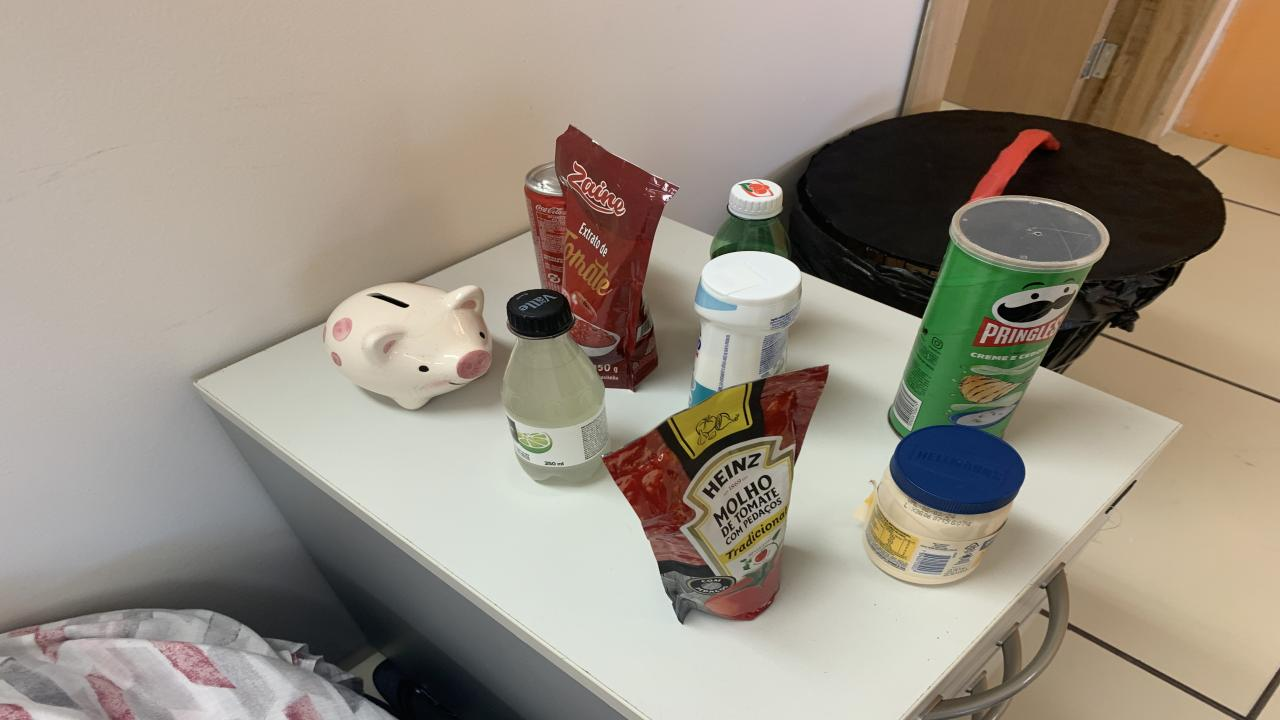Cleaner-Cleanup_Items: (690, 251, 802, 407)
Coke-Drinks: (525, 161, 565, 291)
Guarana-Drinks: (710, 178, 790, 259)
Mayonnaise-Pantry_Items: (865, 426, 1025, 585)
Pig_Safe-Miscellaneous: (322, 283, 492, 409)
Pringles-Snacks: (888, 195, 1110, 437)
Soda-Drinks: (502, 289, 610, 484)
Tomato_Sauce-Pantry_Items: (605, 366, 828, 621), (552, 126, 678, 390)
